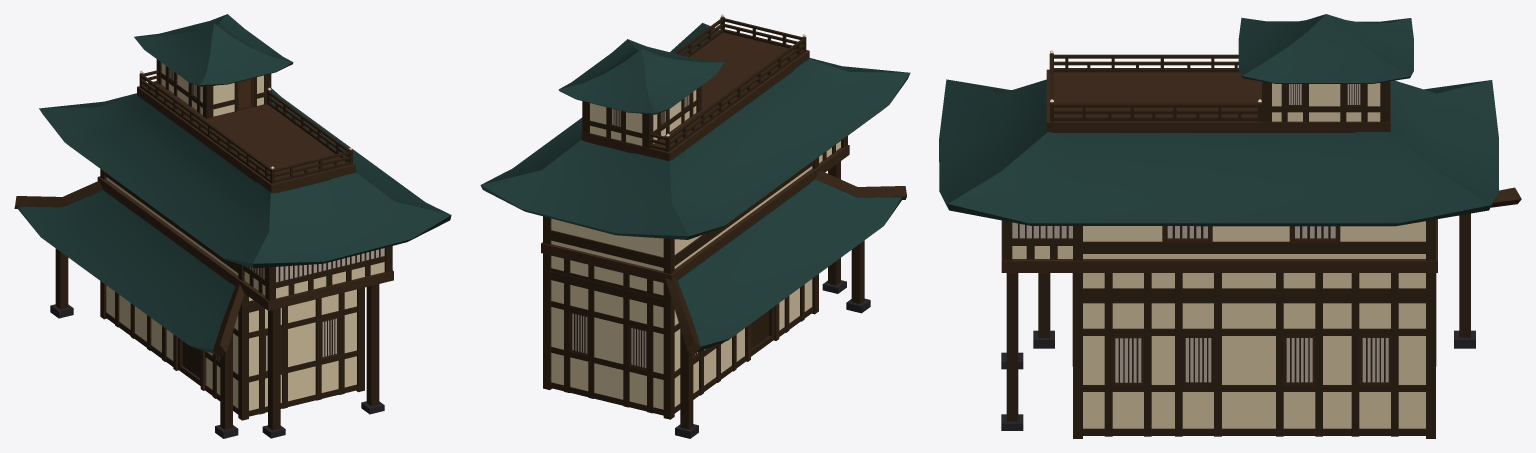
The model's file is houme018 2.fbx.
3 views of the same model, side by side, from view 1: azimuth 30°, elevation 25°; view 2: azimuth 150°, elevation 25°; view 3: azimuth 270°, elevation 25° (orthographic). The views are drawn at different scales.
Visible parts, largest first — view 1: houme18_2, fence18_1_2; view 2: houme18_2, fence18_1_2; view 3: houme18_2, fence18_1_2.
Part boxes in pixels (x1,y1,x2,y2): houme18_2: [14, 14, 451, 438]; fence18_1_2: [139, 70, 352, 183]; houme18_2: [480, 23, 910, 438]; fence18_1_2: [650, 14, 806, 151]; houme18_2: [939, 14, 1521, 438]; fence18_1_2: [1049, 50, 1261, 121].
Bounding box in the file's own units: 1268 × 1653 × 2223.
